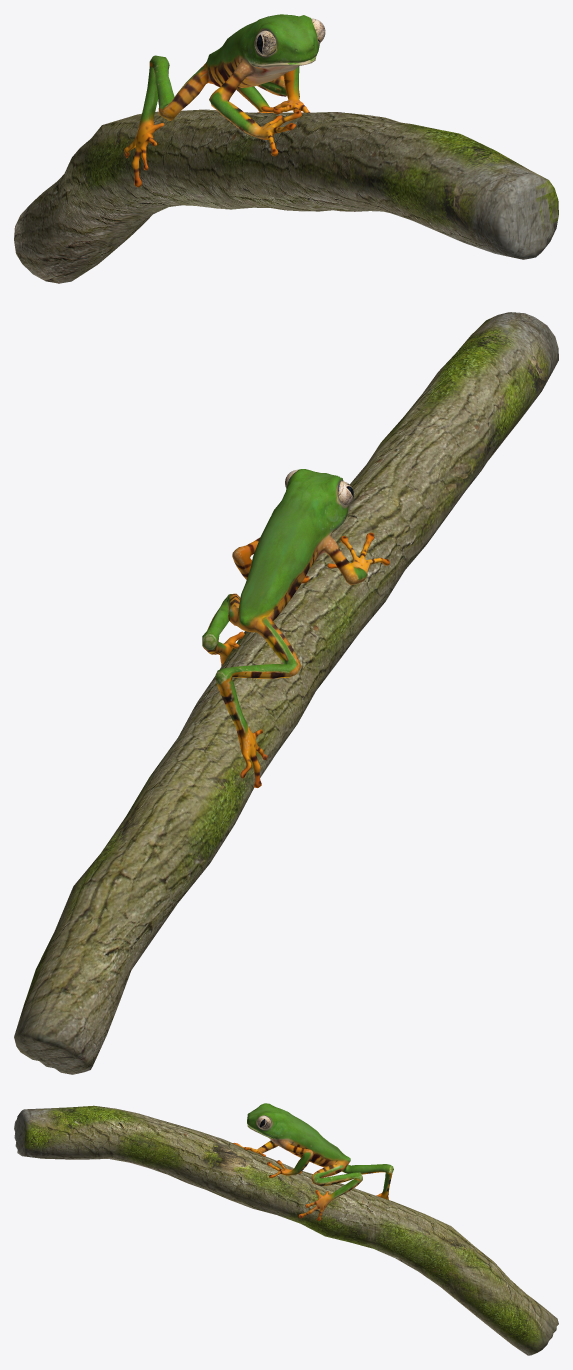
Rendered from nm__tigerleaf.glb.
3 renders of one model, top to bottom at view 1: azimuth 30°, elevation 25°; view 2: azimuth 150°, elevation 25°; view 3: azimuth 270°, elevation 25°, orthographic. The views are drawn at different scales.
Visible parts, largest first — view 1: Branch_Lowpoly, Frog_Model_Lowpoly, Eye_R; view 2: Branch_Lowpoly, Frog_Model_Lowpoly; view 3: Branch_Lowpoly, Frog_Model_Lowpoly.
Boxes of the visible parts, <box> form: Branch_Lowpoly: <box>14,109,558,283</box>; Frog_Model_Lowpoly: <box>124,14,320,187</box>; Eye_R: <box>254,30,276,56</box>; Branch_Lowpoly: <box>14,312,558,1074</box>; Frog_Model_Lowpoly: <box>202,469,389,787</box>; Branch_Lowpoly: <box>14,1105,558,1355</box>; Frog_Model_Lowpoly: <box>233,1103,393,1220</box>.
Size of the model in its own units: 0.1582 by 0.543 by 1.11.
Materials: 3 (3 with a texture image).
